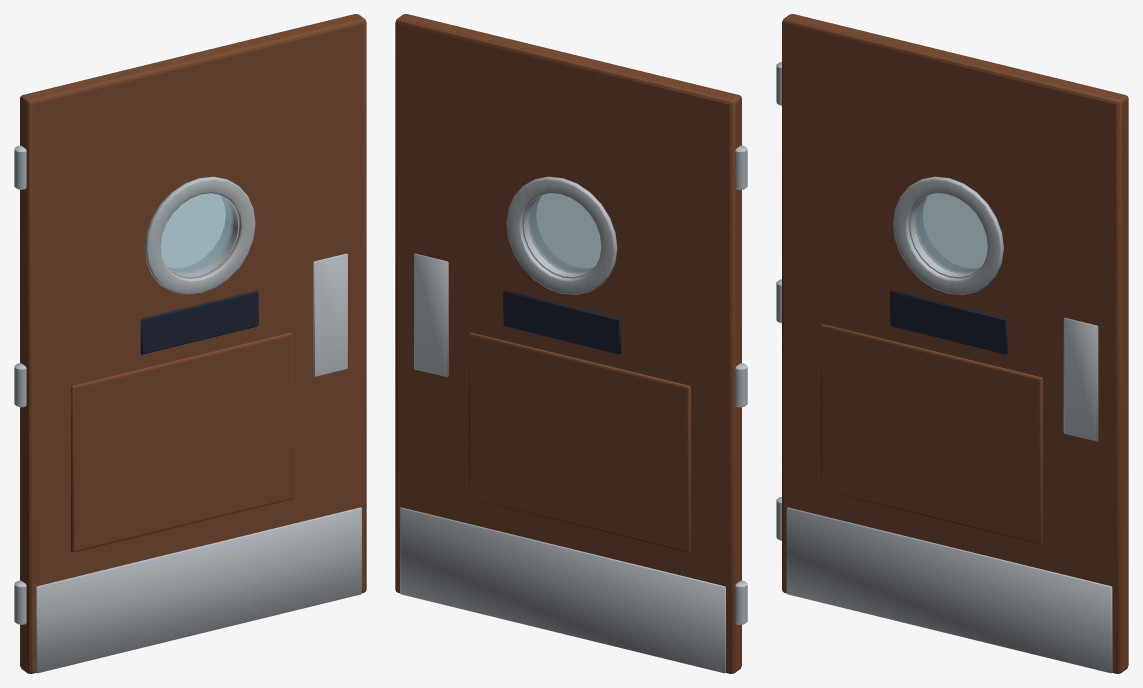
Rendered from Shop_DoorInterior.fbx.
The picture shows the model from 3 angles, left to right: view 1: azimuth 30°, elevation 25°; view 2: azimuth 150°, elevation 25°; view 3: azimuth 330°, elevation 25°; orthographic projection.
Parts seen in each view (by area): view 1: Leaf, Hardware, Glass, SignFront; view 2: Leaf, Hardware, Glass, SignBack; view 3: Leaf, Hardware, Glass, SignFront.
Part boxes in pixels (left/top/right/bottom): Leaf: left=20, top=14, right=366, bottom=673; Hardware: left=14, top=145, right=361, bottom=673; Glass: left=160, top=193, right=233, bottom=273; SignFront: left=140, top=290, right=258, bottom=354; Leaf: left=395, top=14, right=741, bottom=673; Hardware: left=400, top=145, right=747, bottom=673; Glass: left=528, top=193, right=601, bottom=273; SignBack: left=503, top=290, right=621, bottom=354; Leaf: left=782, top=14, right=1128, bottom=673; Hardware: left=776, top=62, right=1112, bottom=673; Glass: left=915, top=193, right=987, bottom=273; SignFront: left=890, top=290, right=1007, bottom=354.
Bounding box in the file's own units: 502 × 792 × 42.
